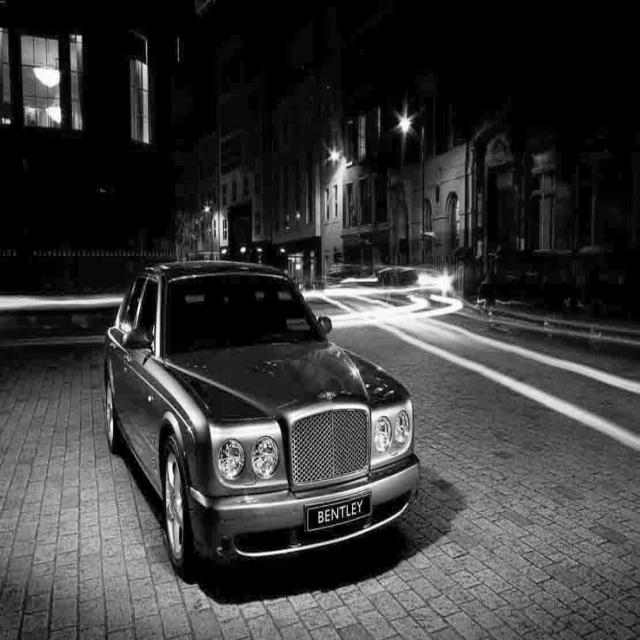car: (101, 258, 420, 574)
